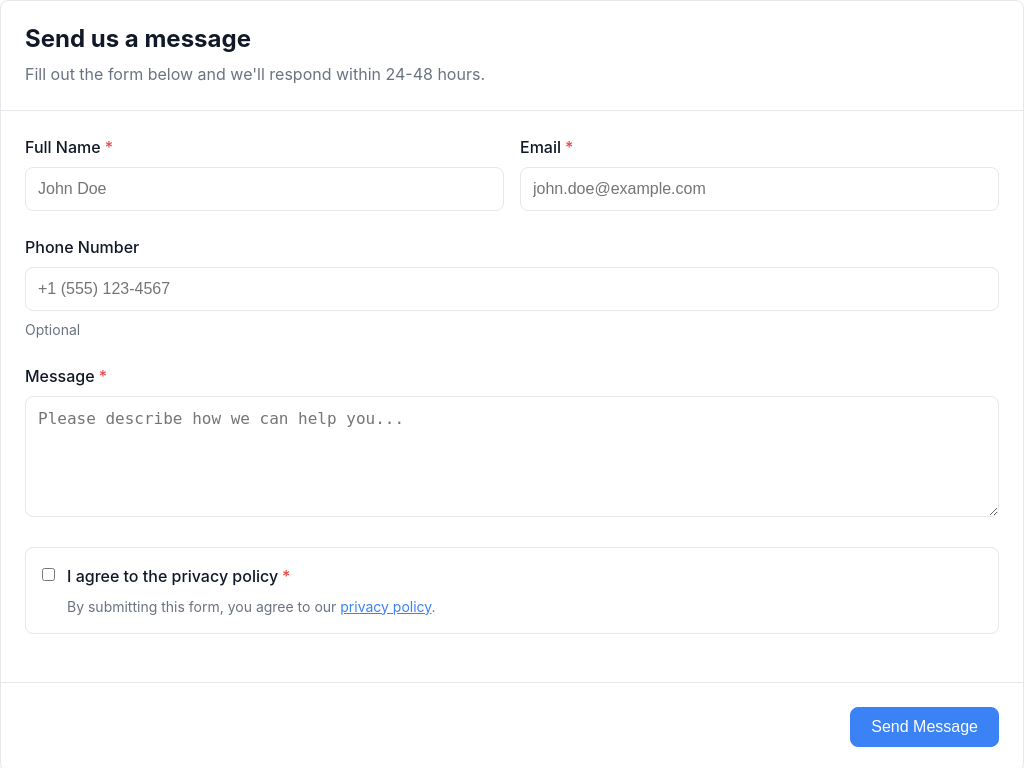
Test: ContactForm › shows validation error for name if too short
Type "A" into the field labelled "Full Name *" at [264, 189], box [25,167,504,211]
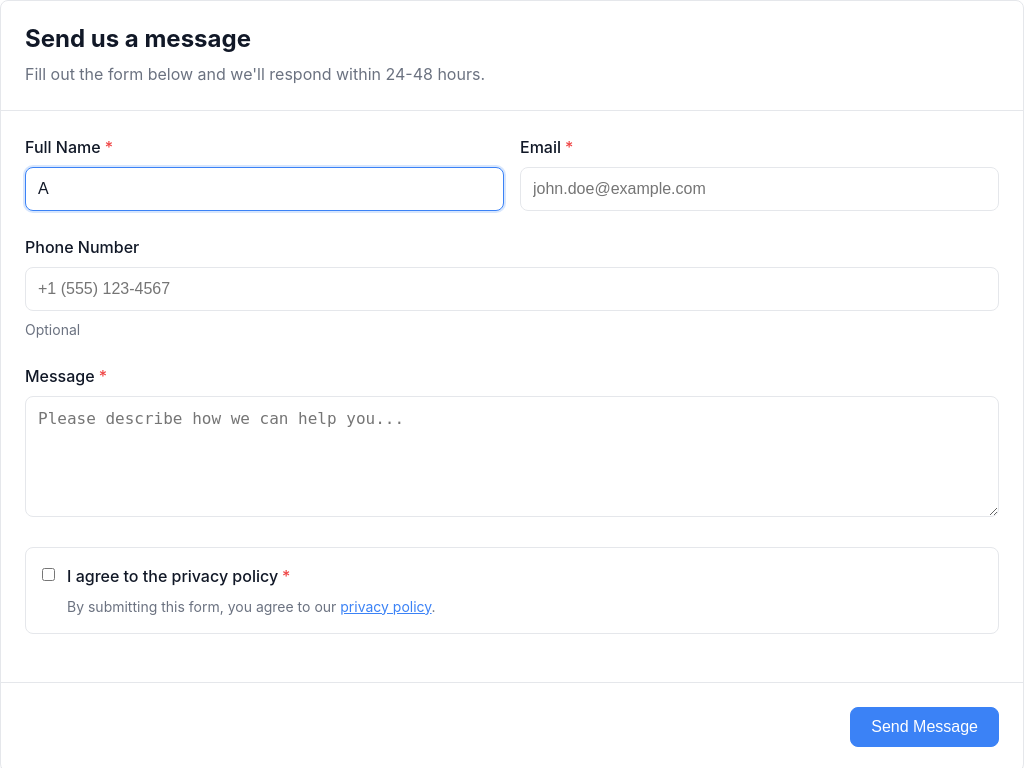
Click the button "Send Message" at [925, 727], box [850,707,999,747]
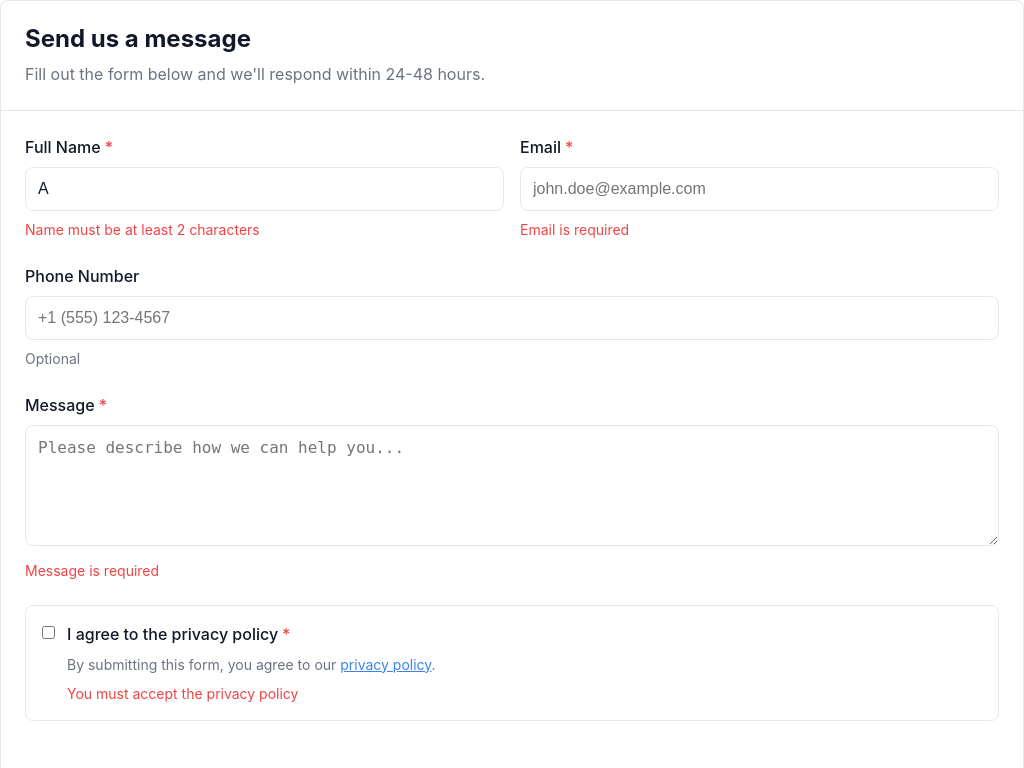
expect the text "Name must be at least 2 characters" is shown: met, box [25,221,260,238]
